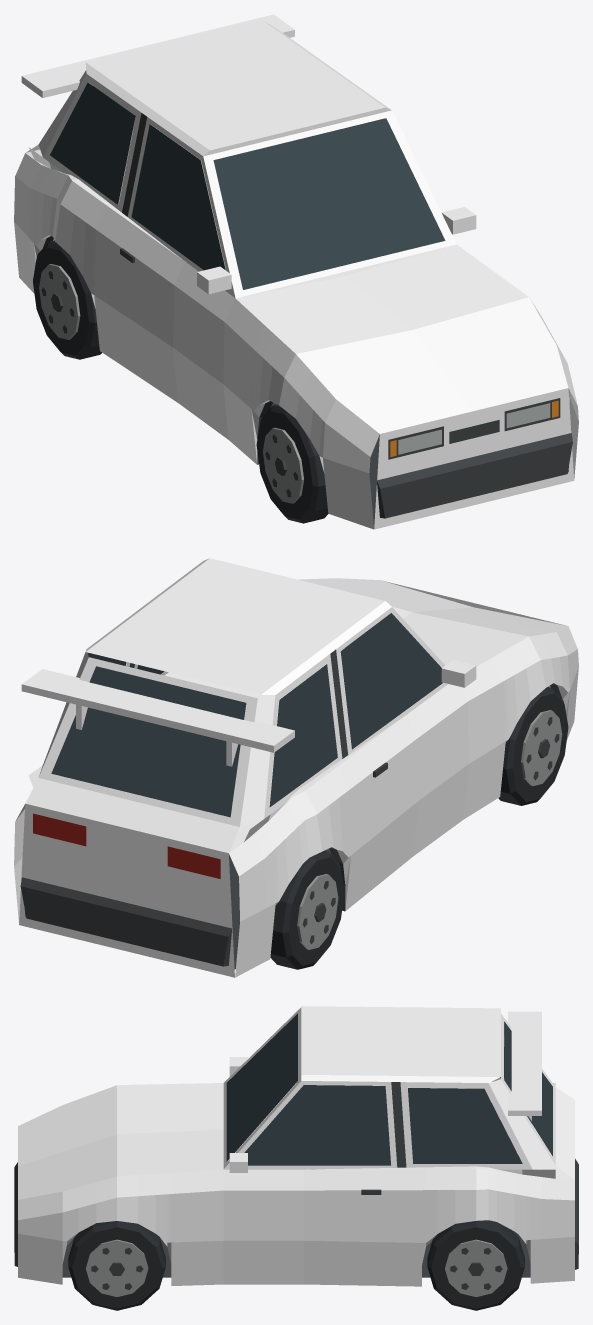
File: lindauer_sperber_corrida.glb
The picture shows the model from 3 angles, top to bottom: view 1: azimuth 30°, elevation 25°; view 2: azimuth 150°, elevation 25°; view 3: azimuth 270°, elevation 25°; orthographic projection. The views are drawn at different scales.
Visible parts, largest first — view 1: lindauer_sperber_corrida; view 2: lindauer_sperber_corrida; view 3: lindauer_sperber_corrida.
Part boxes in pixels (left/top/right/bottom): lindauer_sperber_corrida: left=14, top=14, right=578, bottom=529; lindauer_sperber_corrida: left=14, top=558, right=578, bottom=977; lindauer_sperber_corrida: left=14, top=1006, right=578, bottom=1310.
Size of the model in its own units: 1.62 by 1.59 by 3.68.
8 materials, 1 textured.
